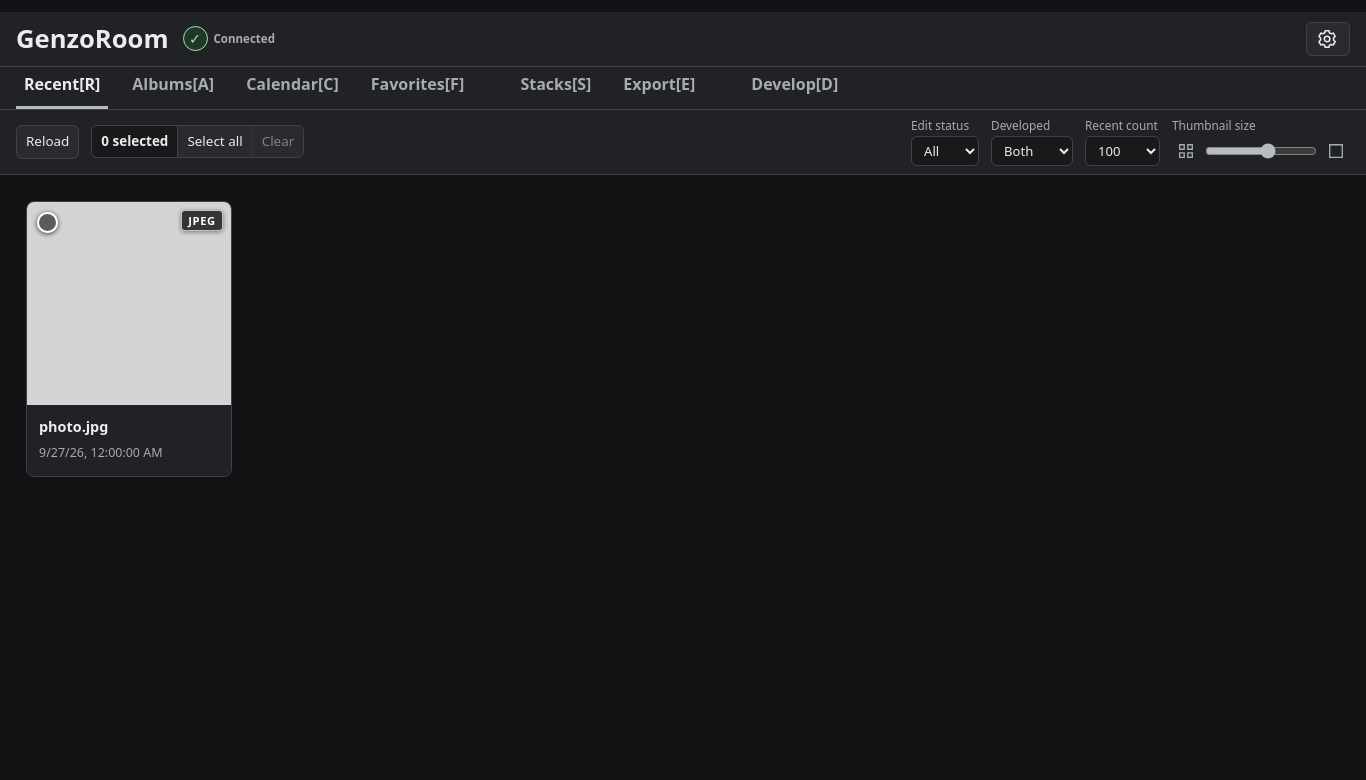
it: Home album tab › shows a cover placeholder, no period, and zero items for an empty album
What coordinates should you click on to do the following:
click the tab with id "home-albums-tab"
I would click on:
 (173, 88)
Its box is [124,67,222,109].
(page scrolled)
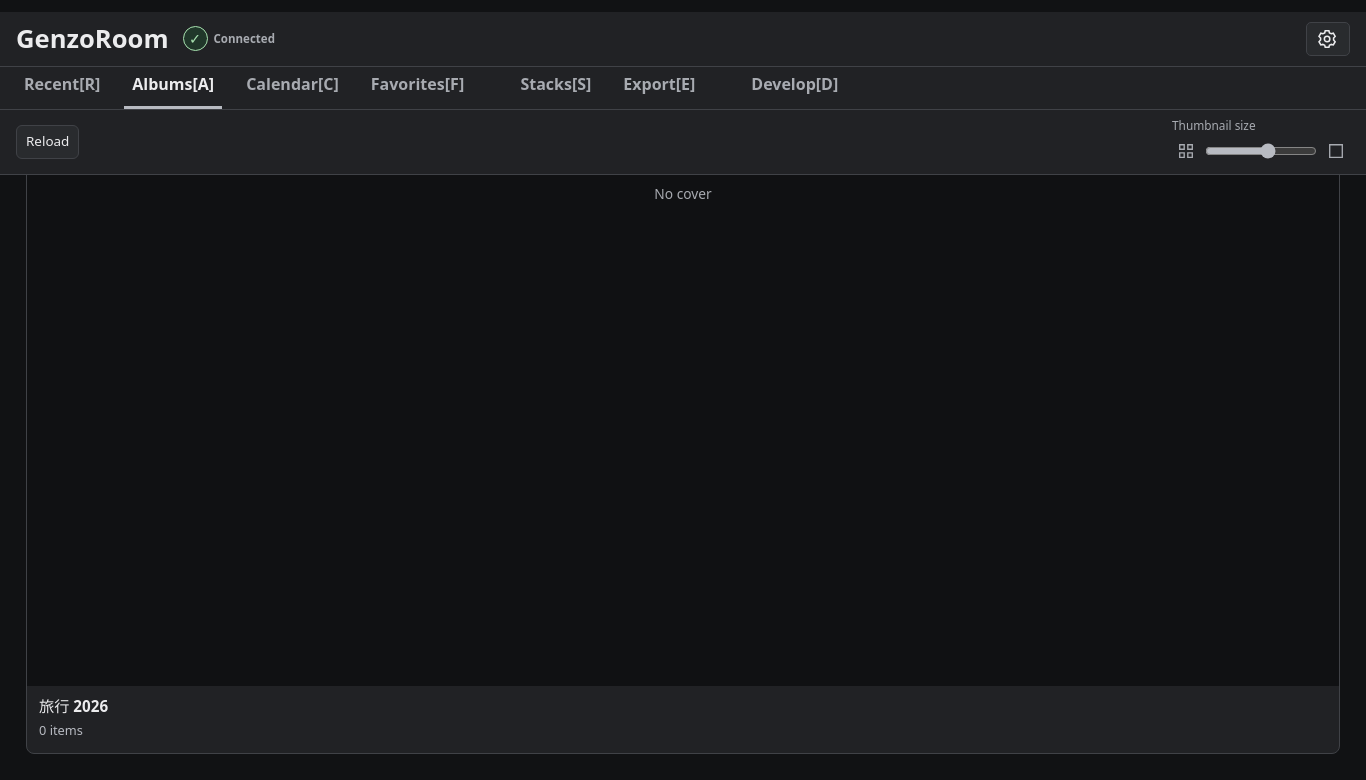
Now the picture is gone
Now the text with class "album-cover-placeholder" reads "No cover", box [654,184,712,203]
Now the text with class "album-count" reads "0 items", box [39,721,83,739]
